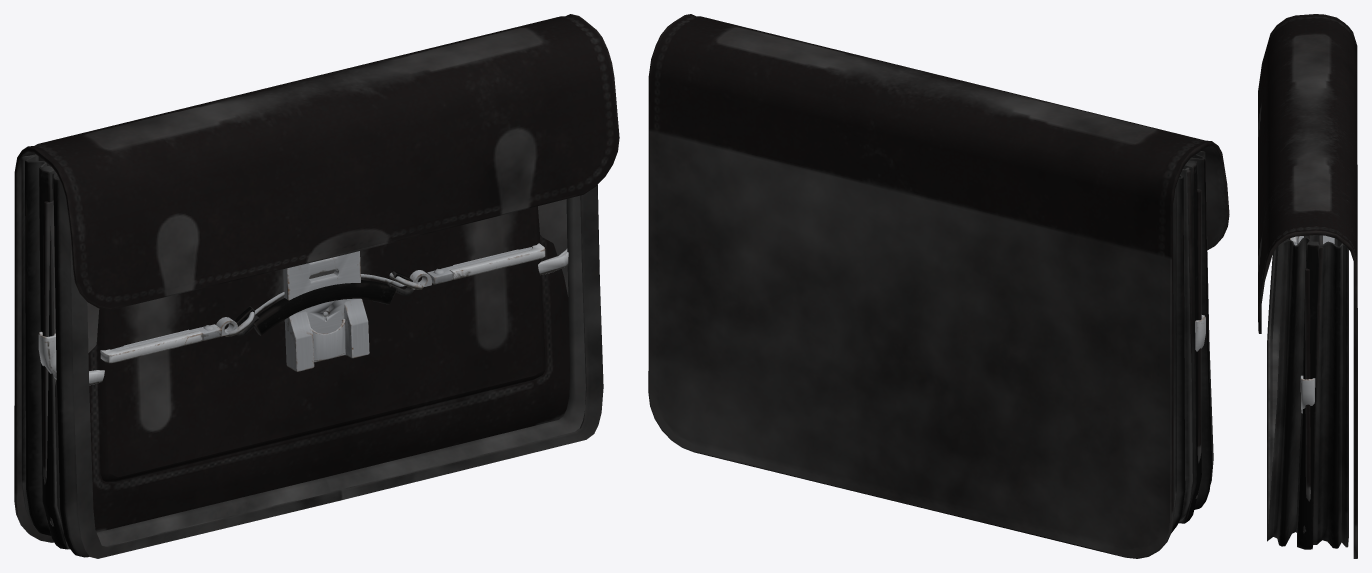
File: briefcase-Optimized.glb
3 views of the same model, side by side, from view 1: azimuth 30°, elevation 25°; view 2: azimuth 150°, elevation 25°; view 3: azimuth 270°, elevation 25° (orthographic). The views are drawn at different scales.
Visible parts, largest first — view 1: Cover, Front_Suitcase, Middle_Suitcase, Briefcase_Lock, Middle_Extrusions, Back, Handle_Lock_Piece, LeatherPart_Handle, Back_Accesories; view 2: Cover, Middle_Suitcase, Middle_Extrusions, Back, Front_Suitcase; view 3: Cover, Middle_Suitcase, Middle_Extrusions, Back, Front_Suitcase, Back_Accesories.
Part boxes in pixels (left/top/right/bottom): Cover: left=14, top=14, right=619, bottom=542; Front_Suitcase: left=50, top=166, right=569, bottom=532; Middle_Suitcase: left=21, top=154, right=603, bottom=558; Briefcase_Lock: left=283, top=251, right=369, bottom=371; Middle_Extrusions: left=39, top=166, right=69, bottom=549; Back: left=43, top=199, right=568, bottom=484; Handle_Lock_Piece: left=100, top=243, right=545, bottom=363; LeatherPart_Handle: left=253, top=280, right=396, bottom=335; Back_Accesories: left=38, top=251, right=568, bottom=385; Cover: left=648, top=14, right=1229, bottom=558; Middle_Suitcase: left=1171, top=151, right=1213, bottom=532; Middle_Extrusions: left=1178, top=160, right=1201, bottom=523; Back: left=1197, top=189, right=1201, bottom=463; Front_Suitcase: left=1183, top=169, right=1198, bottom=498; Cover: left=1258, top=14, right=1357, bottom=558; Middle_Suitcase: left=1267, top=237, right=1348, bottom=548; Middle_Extrusions: left=1297, top=241, right=1318, bottom=549; Back: left=1305, top=235, right=1310, bottom=501; Front_Suitcase: left=1303, top=235, right=1322, bottom=533; Back_Accesories: left=1300, top=375, right=1315, bottom=413.
Bounding box in the file's own units: 13366 × 9682 × 2559.
Materials: 1 (1 with a texture image).
